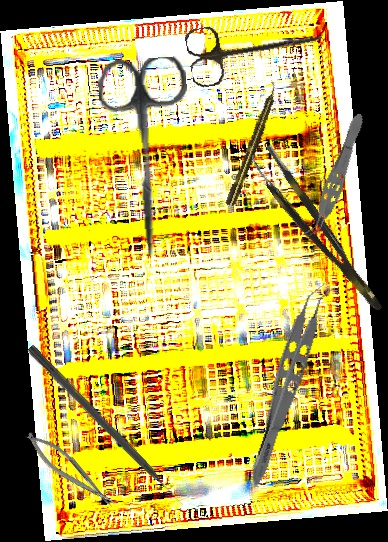Handpiece: (223, 80, 283, 209)
Iris Scissors: (96, 55, 199, 259), (183, 5, 328, 90)
Needle Holder: (20, 424, 120, 517)
Pusher: (25, 344, 186, 510)
Tissue Forceps: (247, 142, 385, 323), (245, 277, 337, 493), (302, 110, 370, 243)
